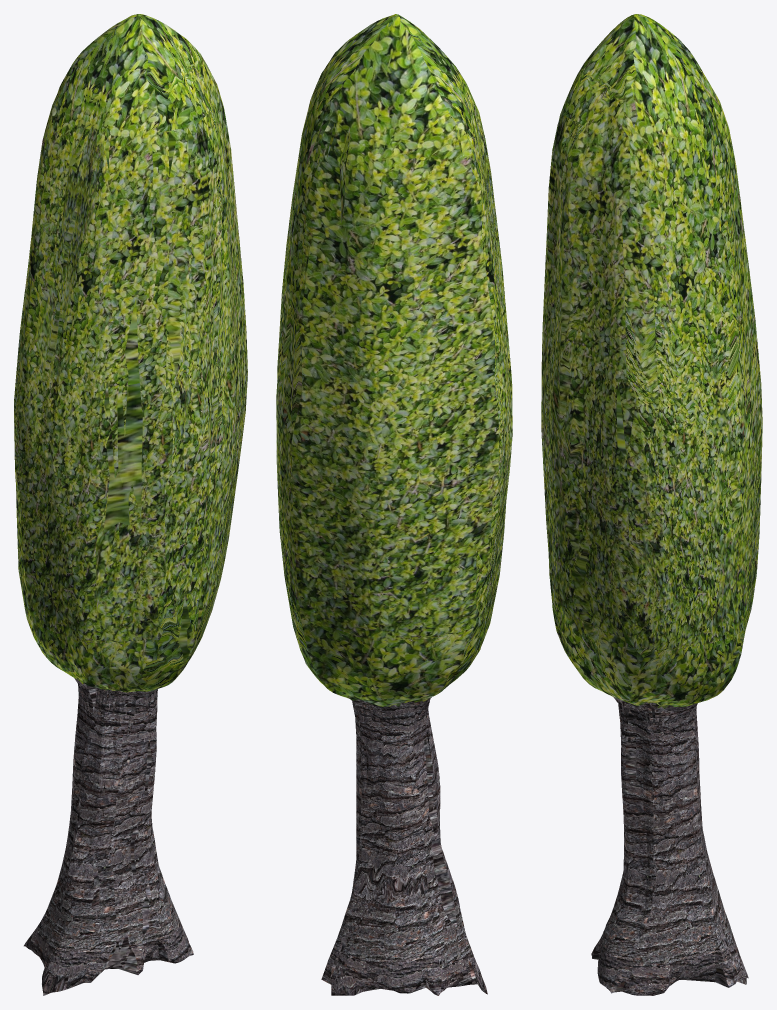
The model's file is tree.obj.
3 views of the same model, side by side, from view 1: azimuth 30°, elevation 25°; view 2: azimuth 150°, elevation 25°; view 3: azimuth 270°, elevation 25° (orthographic). The views are drawn at different scales.
Visible parts, largest first — view 1: Cylinder; view 2: Cylinder; view 3: Cylinder.
Part boxes in pixels (x1=…): Cylinder: x1=14, y1=14, x2=247, y2=995; Cylinder: x1=276, y1=14, x2=512, y2=995; Cylinder: x1=541, y1=14, x2=762, y2=995.
Bounding box in the file's own units: 3.49 × 14.45 × 2.97.
Materials: 1 (1 with a texture image).
